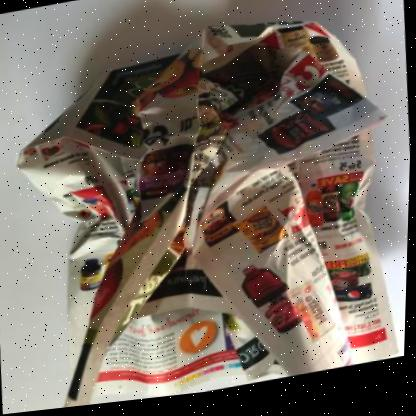Paper: (17, 27, 398, 409)
